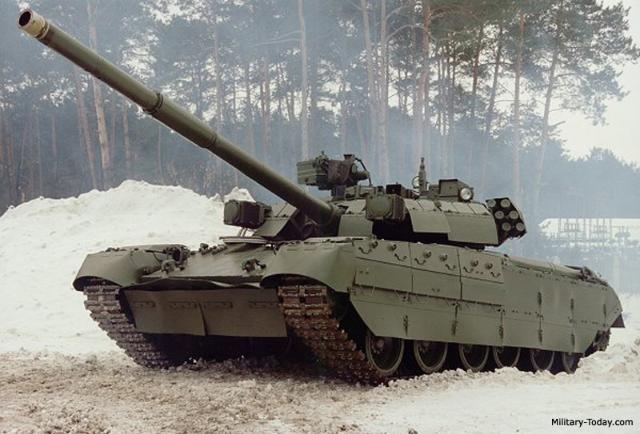tank: (86, 177, 610, 374)
